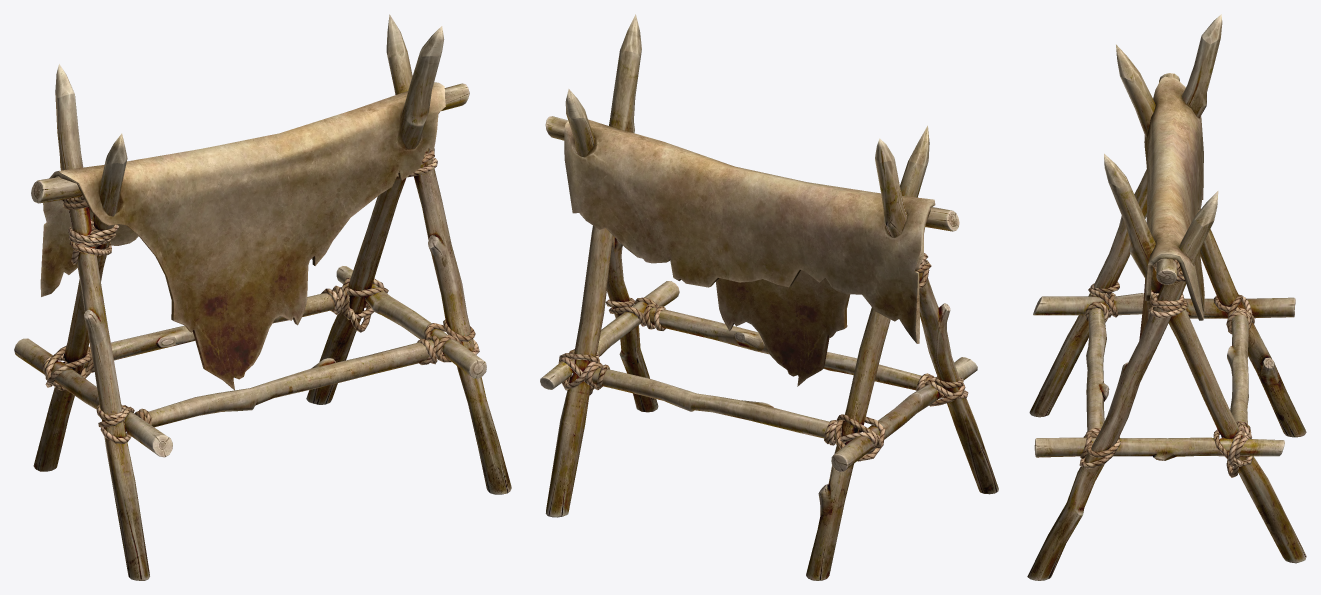
3 views of the same model, side by side, from view 1: azimuth 30°, elevation 25°; view 2: azimuth 150°, elevation 25°; view 3: azimuth 270°, elevation 25° (orthographic). The views are drawn at different scales.
Visible parts, largest first — view 1: SM_Garou_Rack_Leather_01_LOD0; view 2: SM_Garou_Rack_Leather_01_LOD0; view 3: SM_Garou_Rack_Leather_01_LOD0.
Part boxes in pixels (box(x1,y1,x2,y2)): SM_Garou_Rack_Leather_01_LOD0: box(14, 14, 511, 580); SM_Garou_Rack_Leather_01_LOD0: box(540, 14, 998, 580); SM_Garou_Rack_Leather_01_LOD0: box(1027, 14, 1306, 580).
Size of the model in its own units: 2.61 by 2.58 by 1.58.
2 materials, 2 textured.
